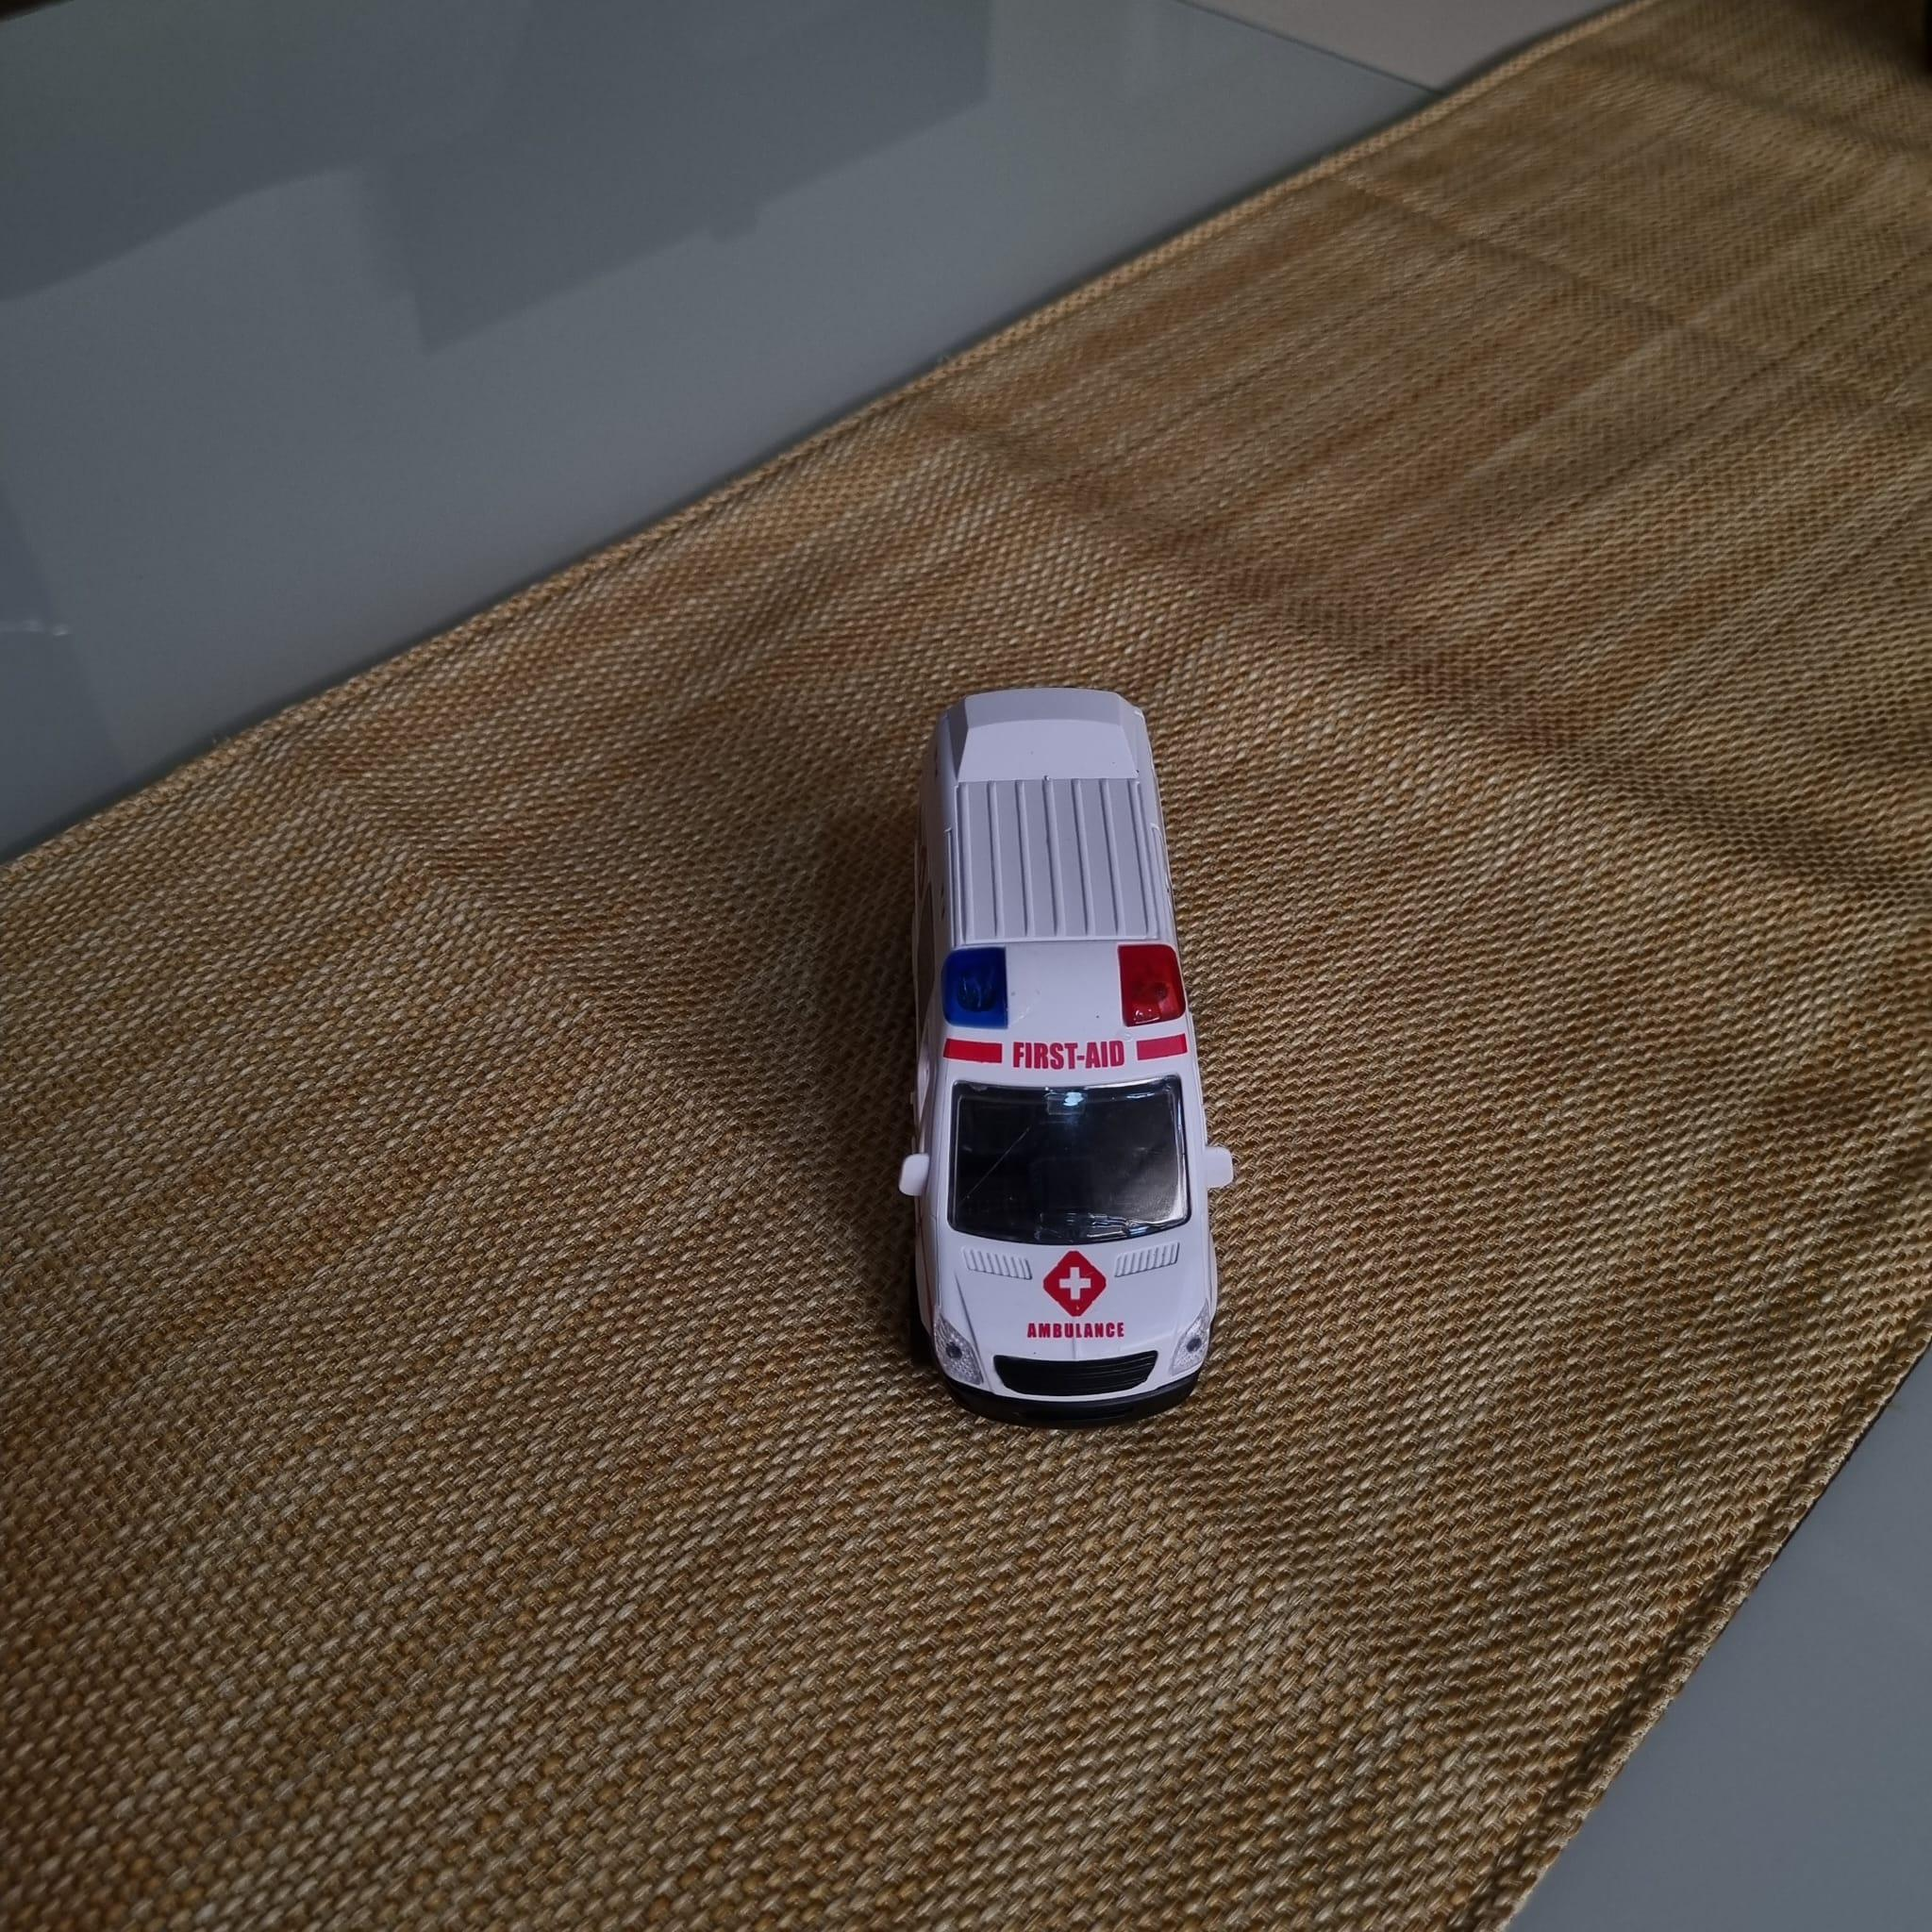ambulance_off: (916, 699, 1230, 1424)
